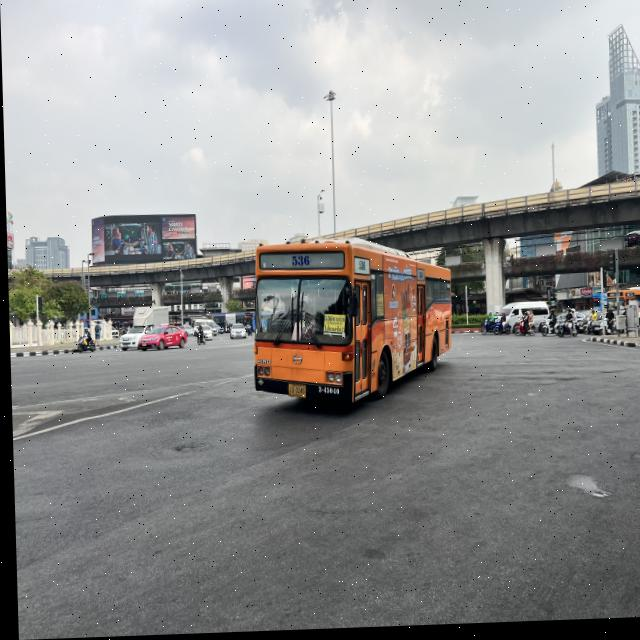BMTA-bus: (251, 241, 450, 412)
Bus Line Number: (287, 252, 311, 272)
Bus Side Number: (314, 387, 338, 401)
Destination Sign: (322, 317, 344, 336)
